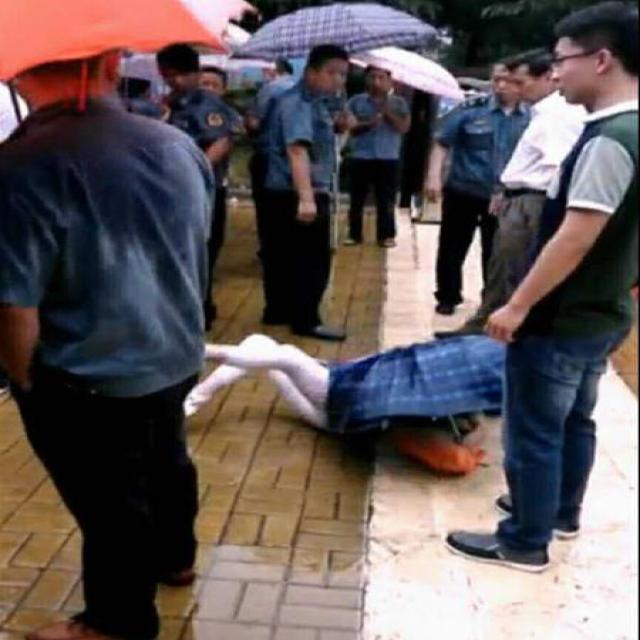10-: (0, 0, 639, 639)
down: (172, 328, 491, 481)
